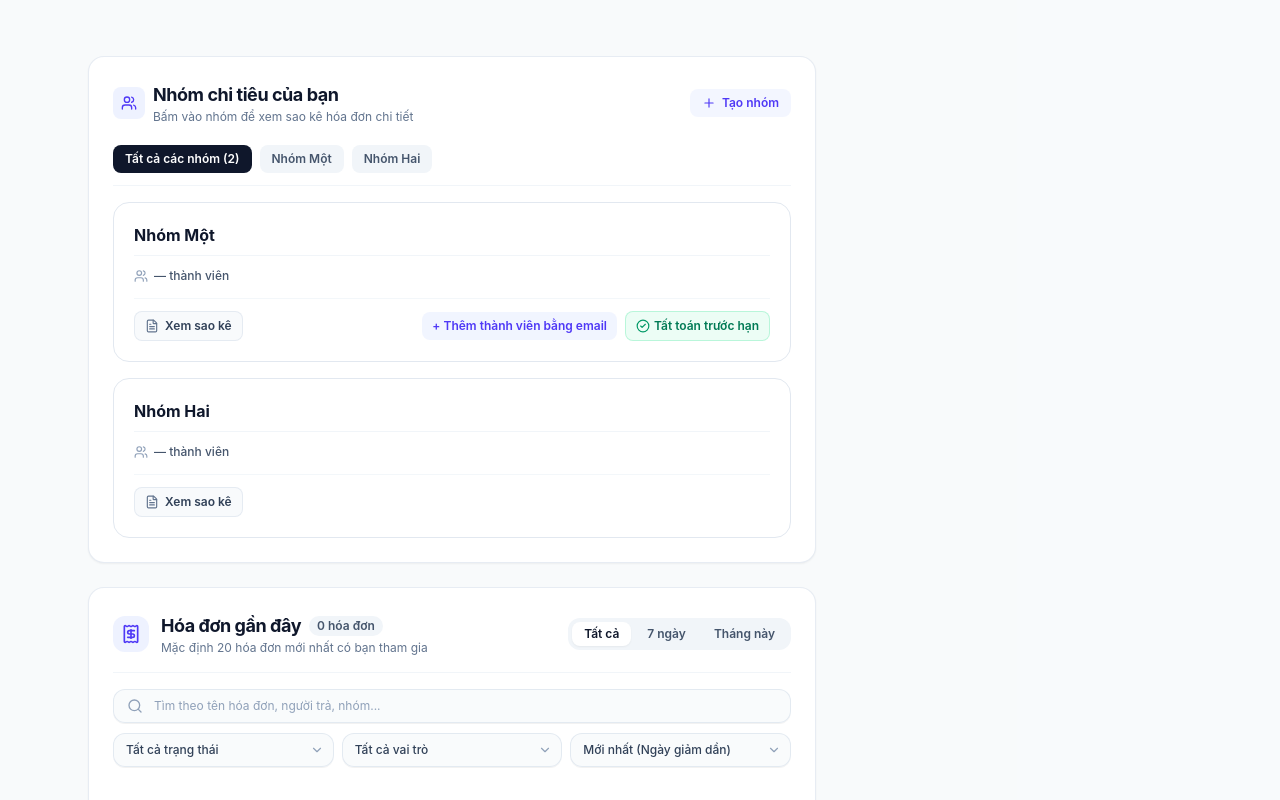
Scenario: creator adds an existing account by normalized email and updates member count
Click the button "+ Thêm thành viên bằng email" at (520, 326), box x1=422 y1=312 x2=617 y2=340
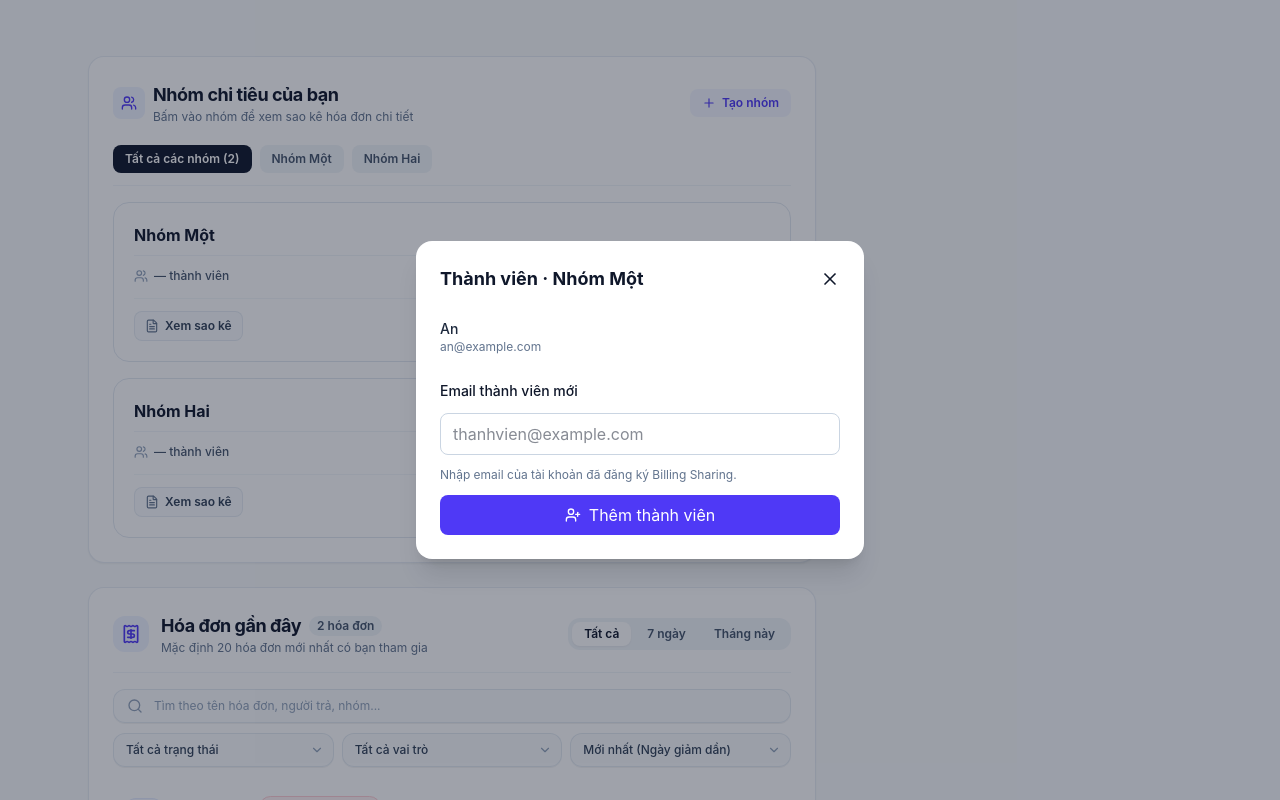
Now the text "an@example.com" is shown, box x1=440 y1=339 x2=541 y2=355
Type "BINH@example.com" into the field labelled "Email thành viên mới" at (640, 434), box x1=440 y1=413 x2=840 y2=455
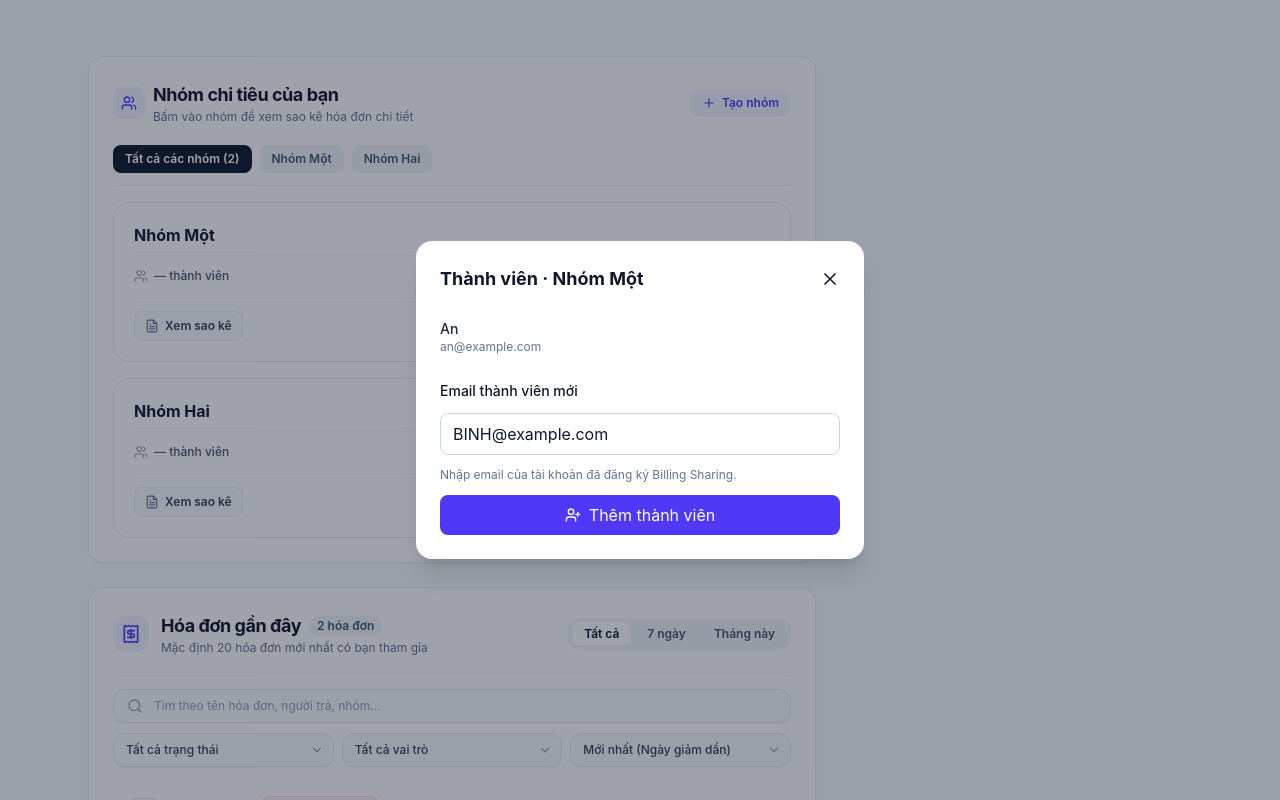
Click the button "Thêm thành viên" at (640, 515), box x1=440 y1=495 x2=840 y2=535
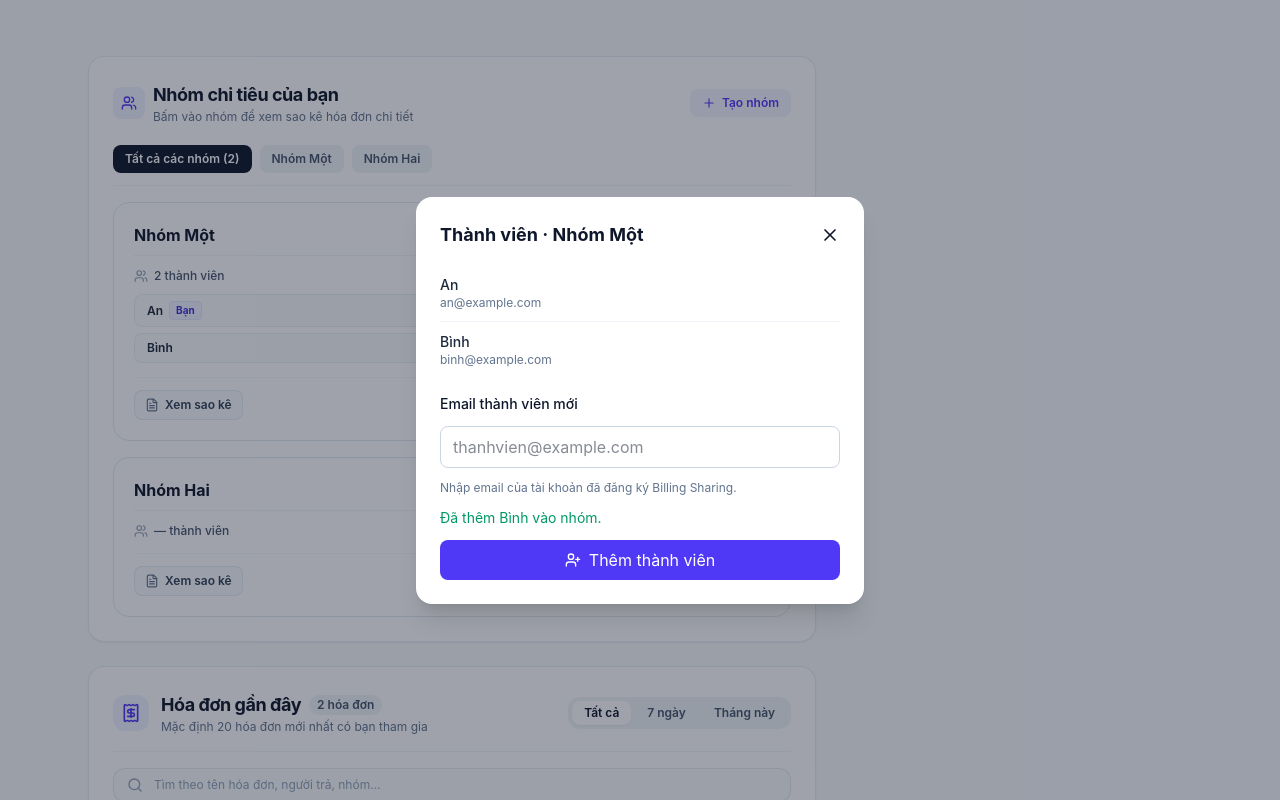
Now the text "Đã thêm Bình vào nhóm." is shown, box x1=440 y1=508 x2=602 y2=526
Now the text "2 thành viên" is shown, box x1=154 y1=268 x2=225 y2=284
